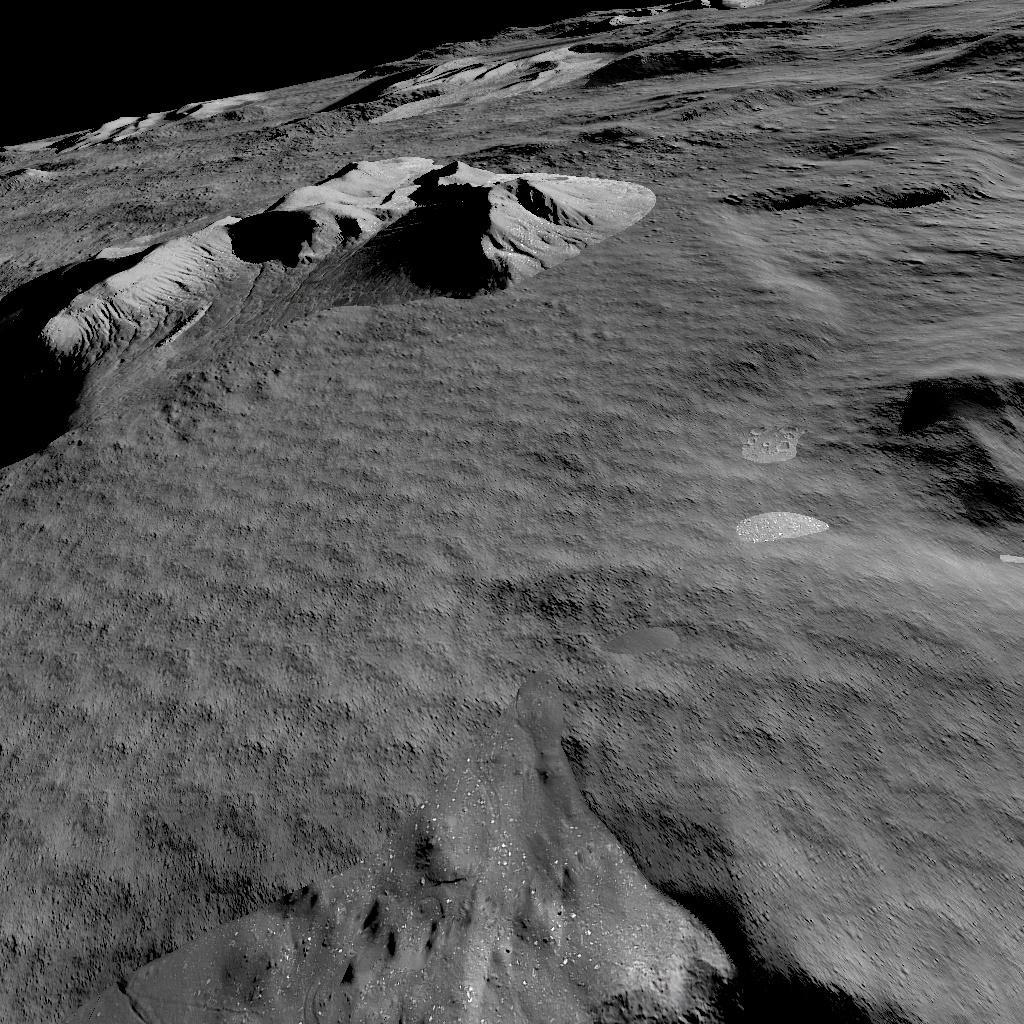Boulders: (0, 160, 660, 465), (336, 0, 815, 108), (54, 95, 260, 148)
Crater: (0, 835, 1024, 1024), (906, 360, 1024, 565), (718, 175, 960, 218)
Plan surface: (0, 478, 893, 822)
